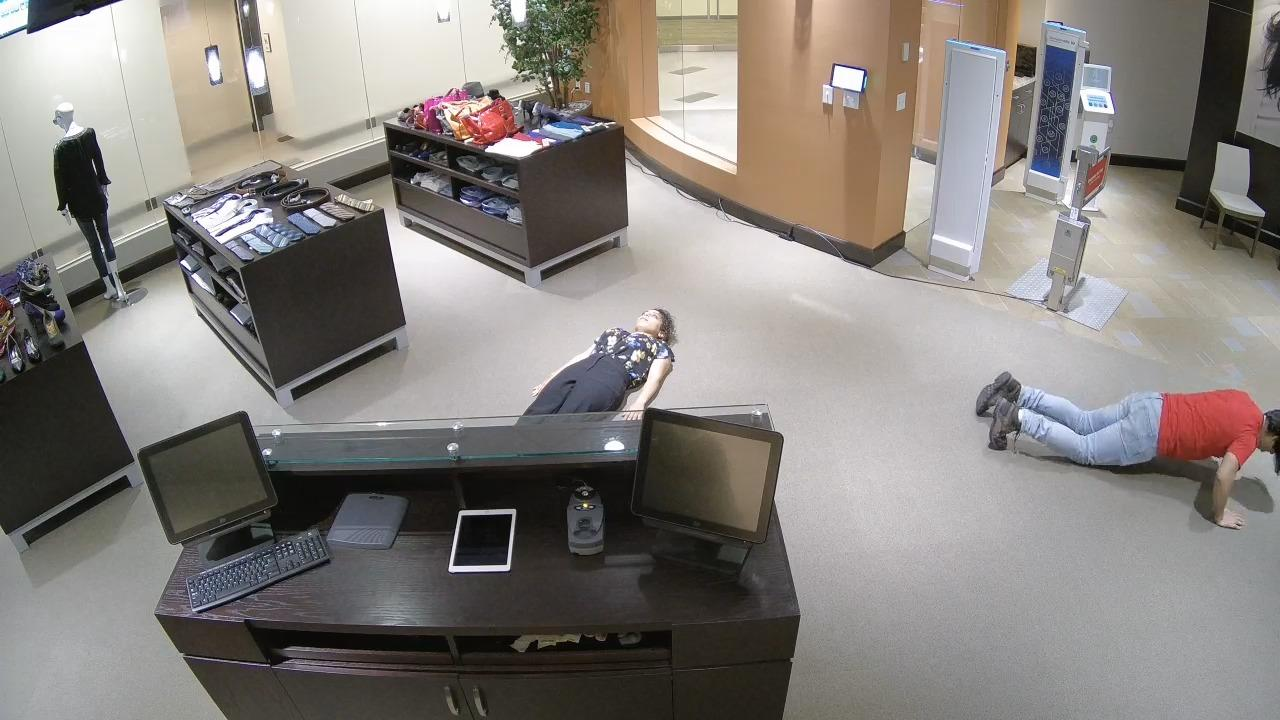fall: (966, 365, 1279, 531), (463, 300, 678, 452)
